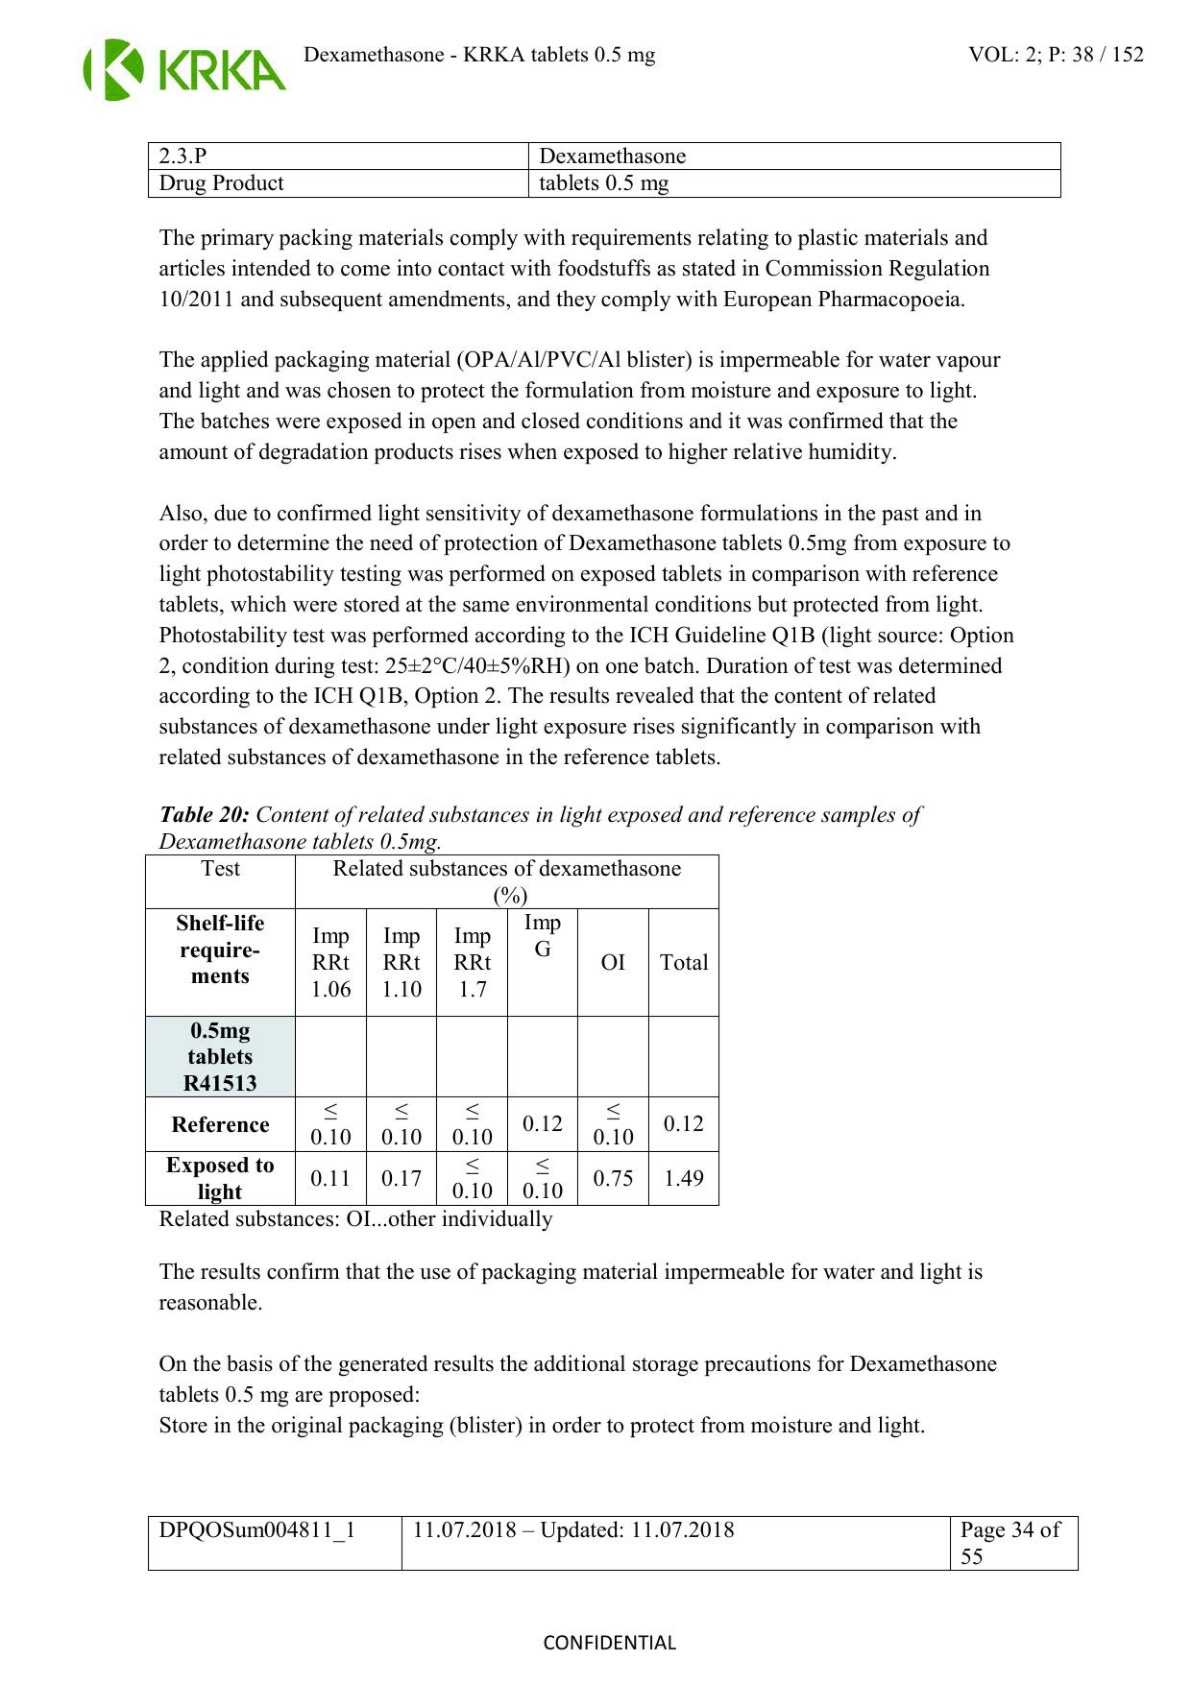full_lined: (146, 141, 1062, 199), (146, 1514, 1078, 1571)
merged_cells: (144, 854, 720, 1207)
